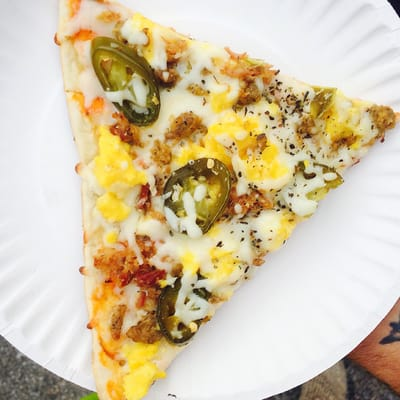sandwich: (62, 8, 399, 397)
